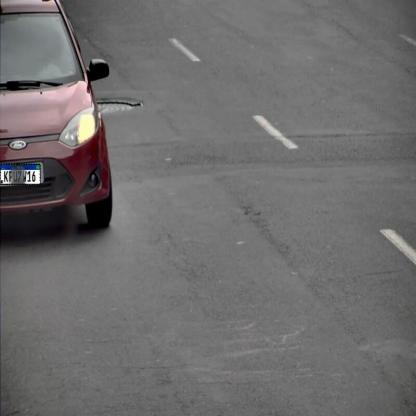PlacaM: (0, 164, 41, 185)
